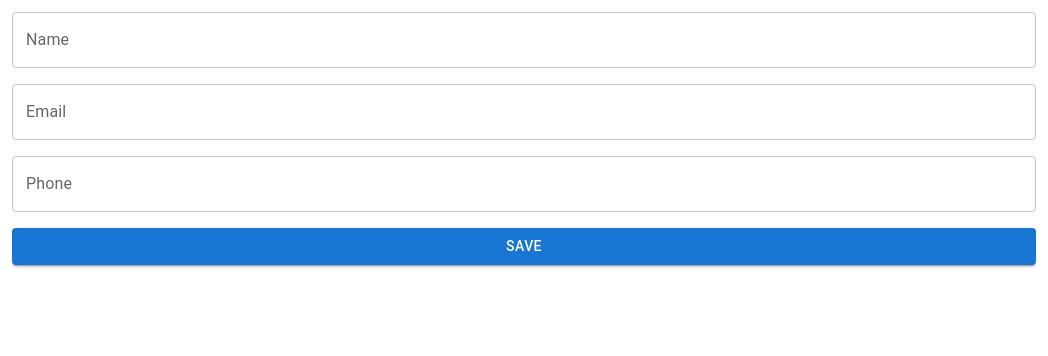
Test: ClientForm › blocks submit and shows an error when neither email nor phone is provided
Type "Acme Farms" into the field labelled "Name".
click(524, 40); type("Acme Farms")  # box [12,12,1036,68]
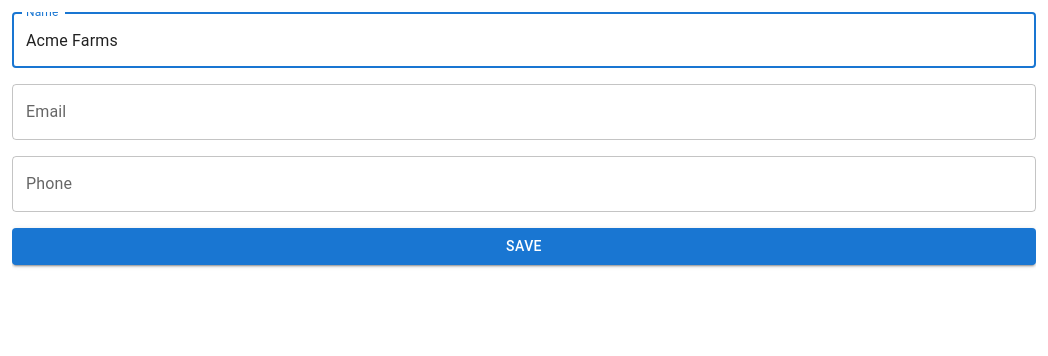
Click the button "Save".
click(524, 246)  # box [12,228,1036,264]
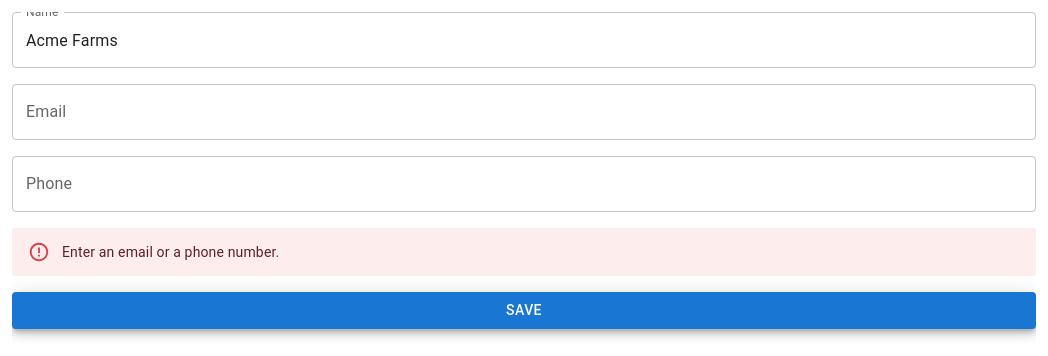
Expected: the text "Enter an email or a phone number." is shown, [62,244,279,260]
